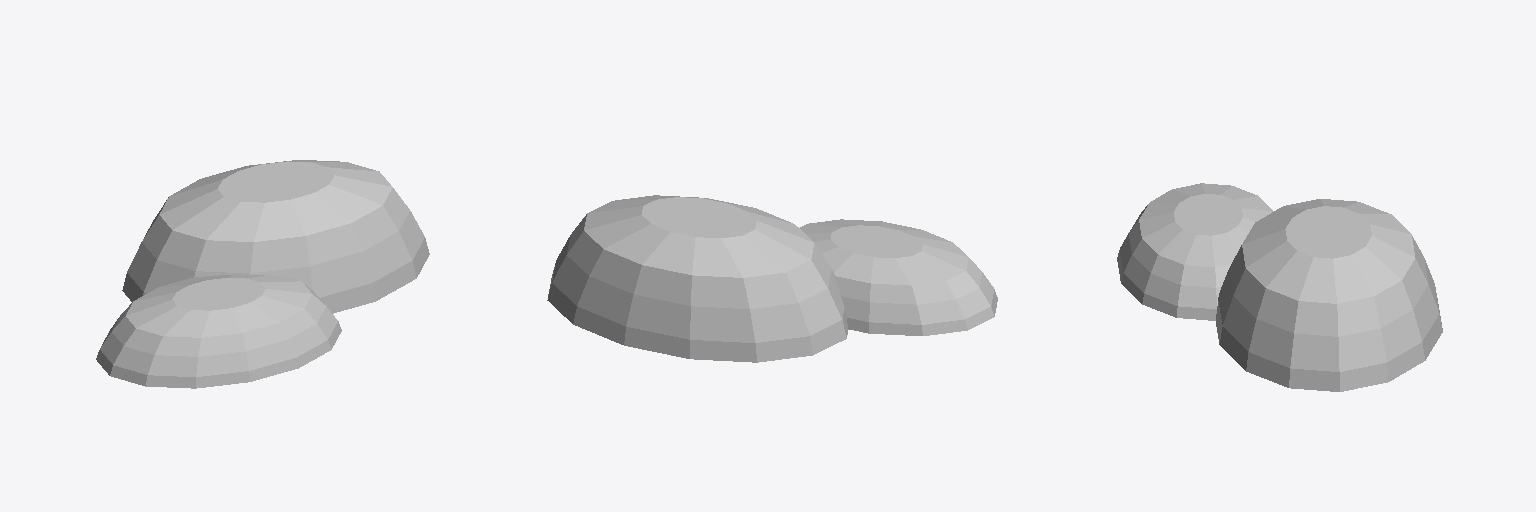
File: Hill_Grass_01 1_0_0.obj
3 views of the same model, side by side, from view 1: azimuth 30°, elevation 25°; view 2: azimuth 150°, elevation 25°; view 3: azimuth 270°, elevation 25° (orthographic).
Parts seen in each view (by area): view 1: Hill_Grass_01 1; view 2: Hill_Grass_01 1; view 3: Hill_Grass_01 1.
Part boxes in pixels (x1,y1,x2,y2): Hill_Grass_01 1: (96,160,429,388); Hill_Grass_01 1: (547,195,997,362); Hill_Grass_01 1: (1117,183,1442,391).
Size of the model in its own units: 141 by 32.75 by 107.